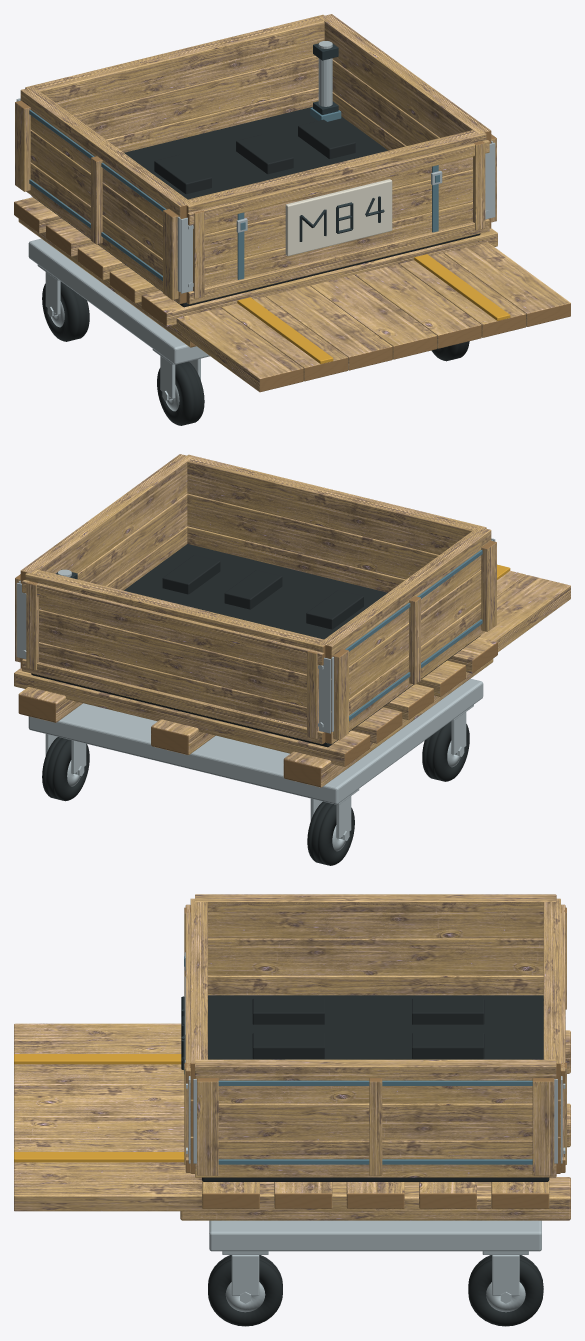
The model's file is crate.glb.
3 renders of one model, top to bottom at view 1: azimuth 30°, elevation 25°; view 2: azimuth 150°, elevation 25°; view 3: azimuth 270°, elevation 25°, orthographic. The views are drawn at different scales.
Visible parts, largest first — view 1: Shell | batched materials, Lid | batched materials; view 2: Shell | batched materials, Lid | batched materials; view 3: Shell | batched materials, Lid | batched materials.
Boxes of the visible parts, bbox=[...] form: Shell | batched materials: bbox=[14, 14, 497, 425]; Lid | batched materials: bbox=[106, 242, 570, 392]; Shell | batched materials: bbox=[14, 454, 497, 865]; Lid | batched materials: bbox=[434, 564, 570, 698]; Shell | batched materials: bbox=[180, 894, 570, 1326]; Lid | batched materials: bbox=[14, 1023, 375, 1211].
Size of the model in its own units: 3 by 2.06 by 3.85.
8 materials, 2 textured.
